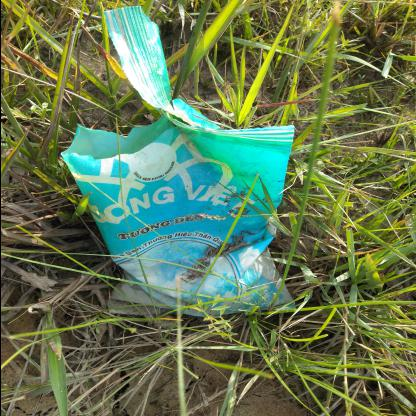plastik: (60, 7, 294, 316)
